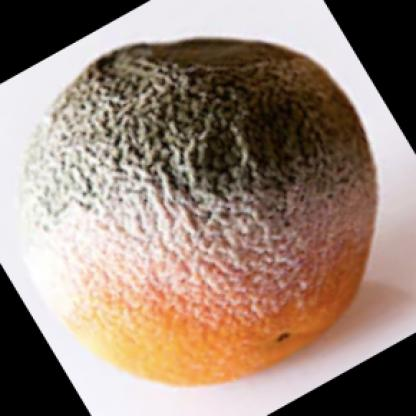rotten: (30, 40, 375, 382)
